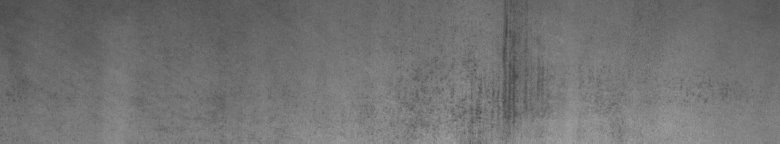ka: (416, 15, 524, 136)
